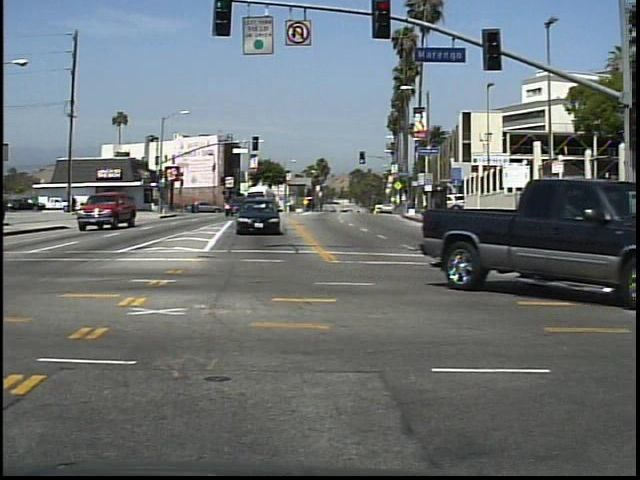person: (71, 191, 79, 219)
